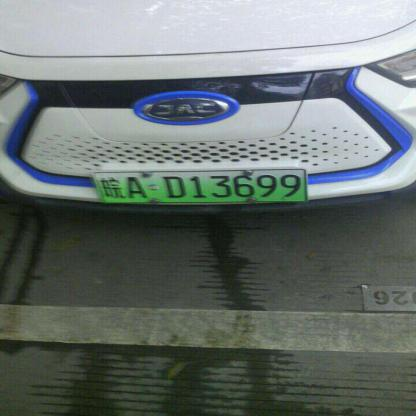lp: (92, 168, 308, 204)
